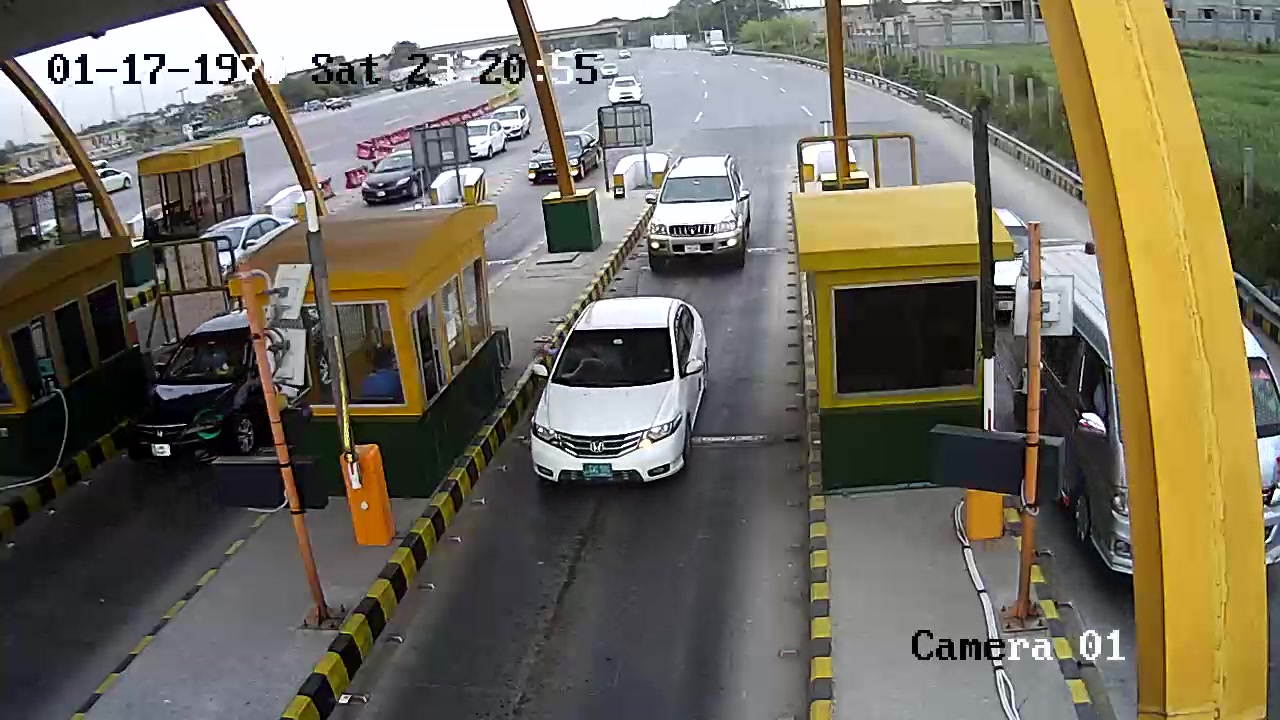F1: (514, 289, 732, 515)
